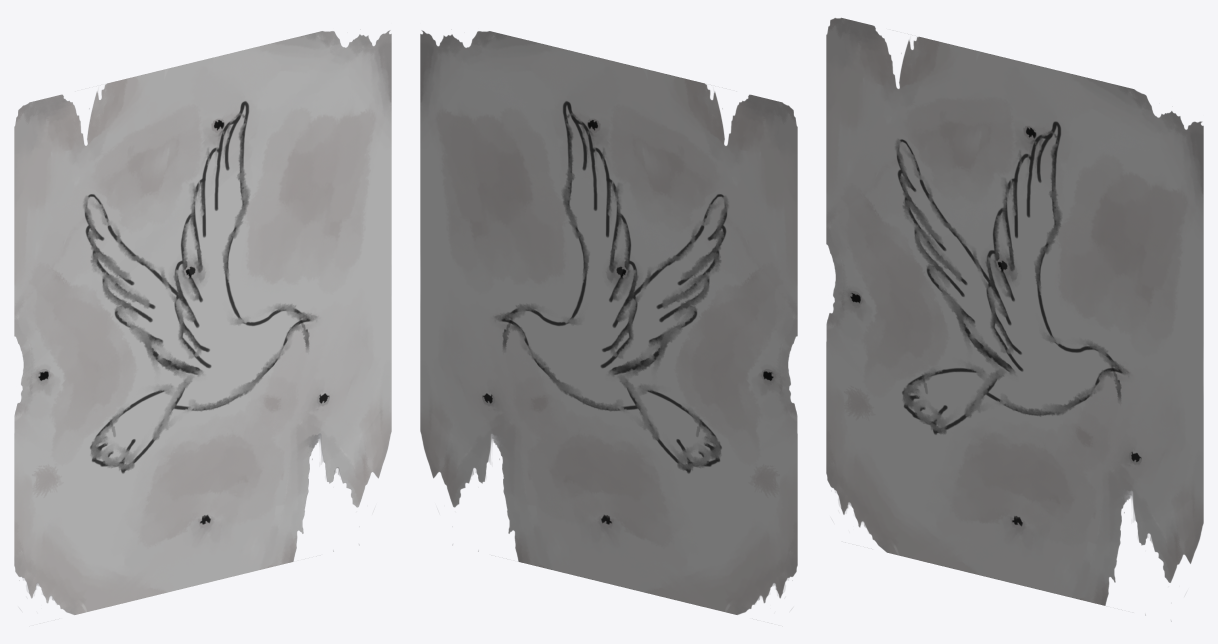
Rendered from dove_poster.glb.
3 renders of one model, left to right at view 1: azimuth 30°, elevation 25°; view 2: azimuth 150°, elevation 25°; view 3: azimuth 330°, elevation 25°, orthographic.
Visible parts, largest first — view 1: pPlane1; view 2: pPlane1; view 3: pPlane1.
Boxes of the visible parts, x1,y1,x2,y2 form: pPlane1: [14, 30, 391, 614]; pPlane1: [420, 30, 797, 614]; pPlane1: [826, 17, 1203, 605].
Bounding box in the file's own units: 46 × 61 × 1.53e-05.
Materials: 1 (1 with a texture image).
